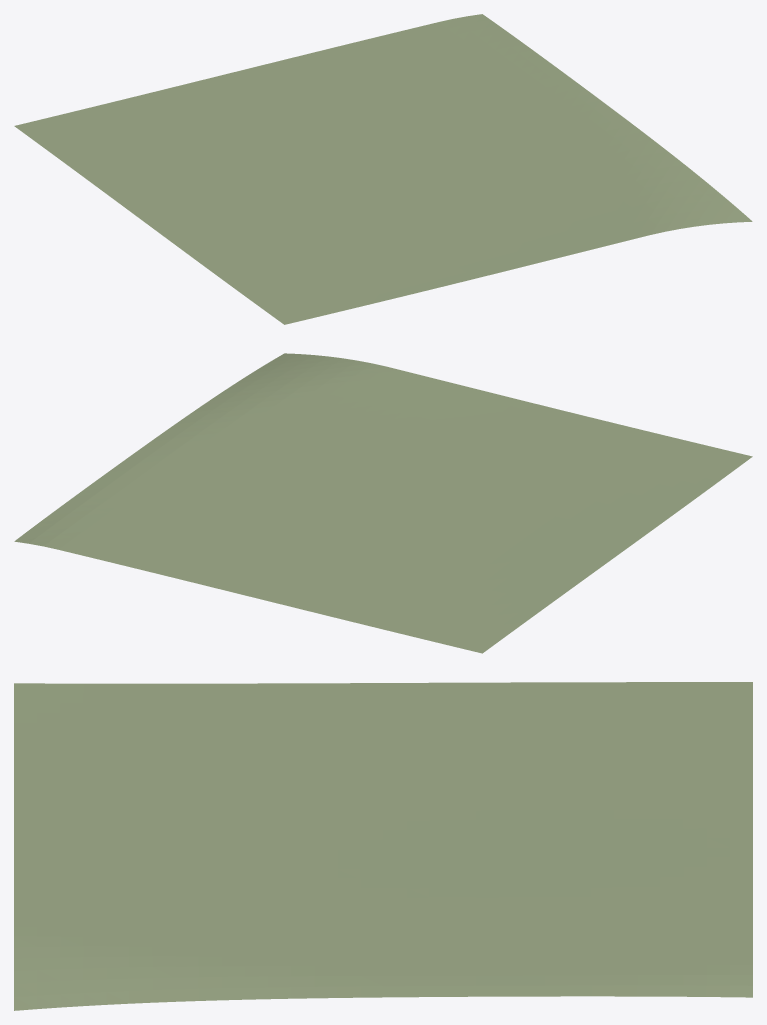
File: desert-27-20.glb
3 views of the same model, one above another, from view 1: azimuth 30°, elevation 25°; view 2: azimuth 150°, elevation 25°; view 3: azimuth 270°, elevation 25° (orthographic). The views are drawn at different scales.
Parts seen in each view (by area): view 1: desert-27-20; view 2: desert-27-20; view 3: desert-27-20.
Part boxes in pixels (x1,y1,x2,y2): desert-27-20: (14, 14, 752, 324); desert-27-20: (14, 353, 752, 653); desert-27-20: (14, 682, 752, 1010).
Size of the model in its own units: 512 by 13.09 by 512.
